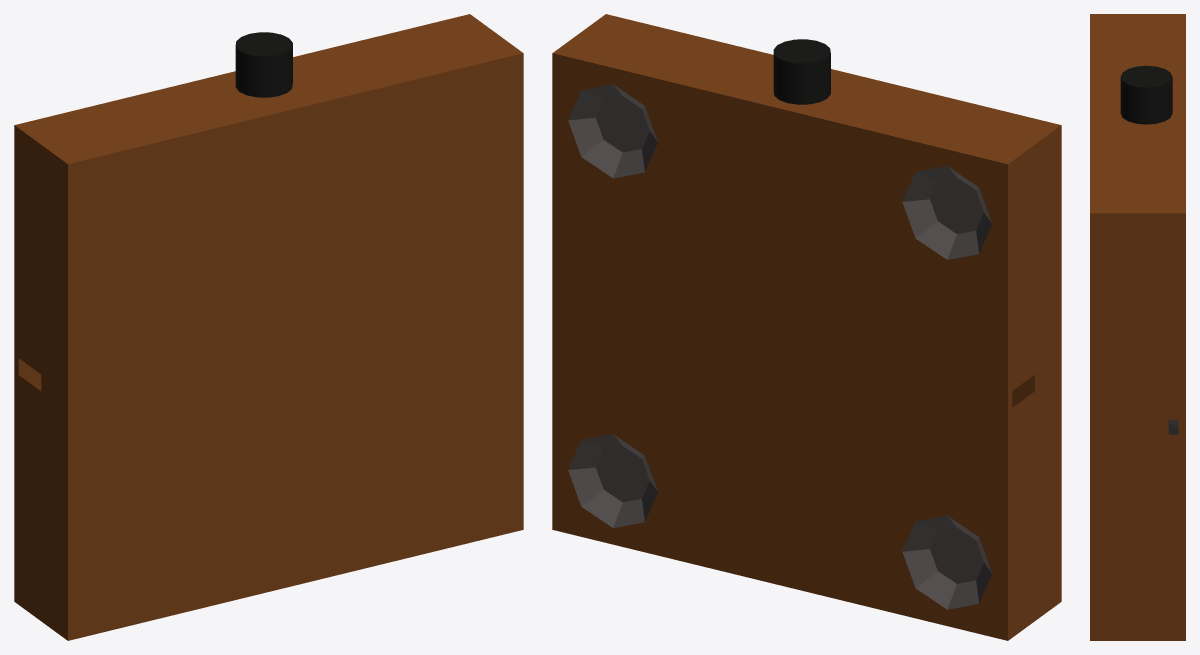
The model's file is fianl.fbx.
The picture shows the model from 3 angles, left to right: view 1: azimuth 30°, elevation 25°; view 2: azimuth 150°, elevation 25°; view 3: azimuth 270°, elevation 25°; orthographic projection. The views are drawn at different scales.
Visible parts, largest first — view 1: L_edit.001; view 2: L_edit.001; view 3: L_edit.001.
Part boxes in pixels (<box>): L_edit.001: <box>14,14,523,640</box>; L_edit.001: <box>552,14,1061,640</box>; L_edit.001: <box>1090,14,1185,640</box>.
Size of the model in its own units: 0.0851 by 0.0925 by 0.0173.
